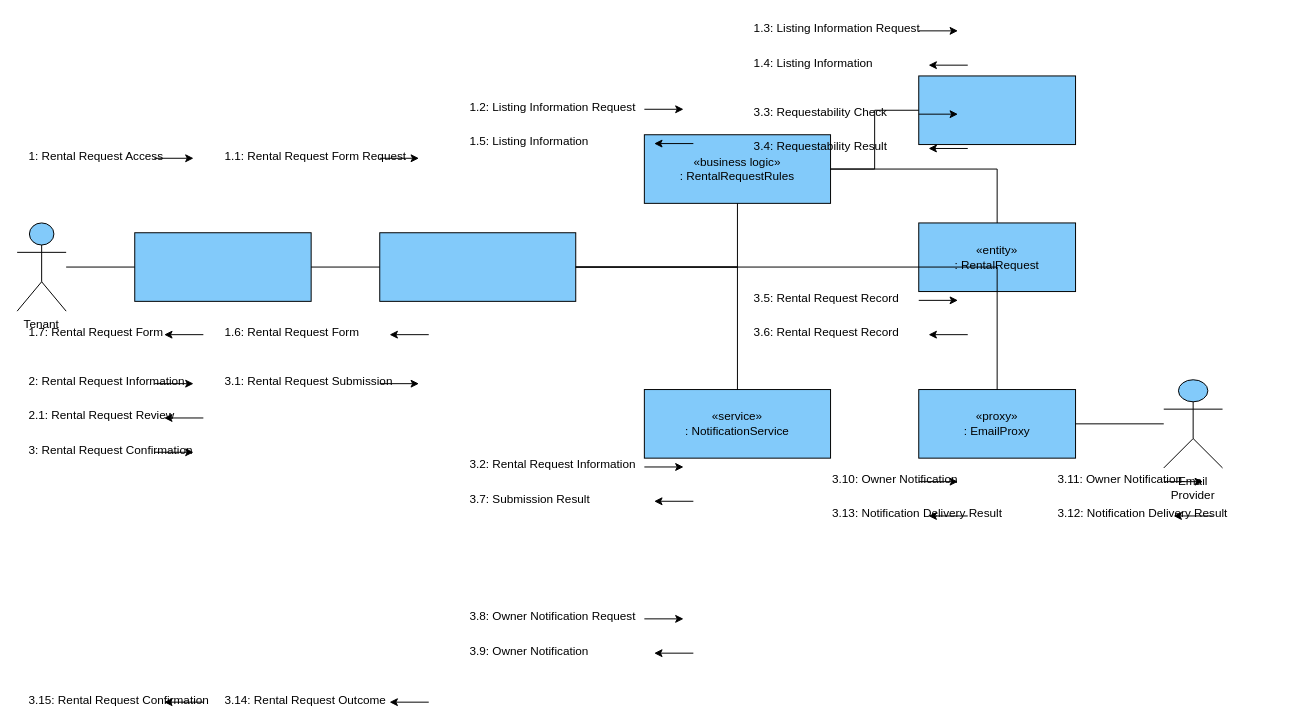
Image size: 1289x728. Some labels were removed from this diagram. Each missing label, with the centre of its shape:
"«coordinator» : RentalRequestCoordinator" belongs at pixel 477 266.
"«entity» : RoomListing" belongs at pixel 997 110.
"«user interaction» : RentalRequestUI" belongs at pixel 222 266.
